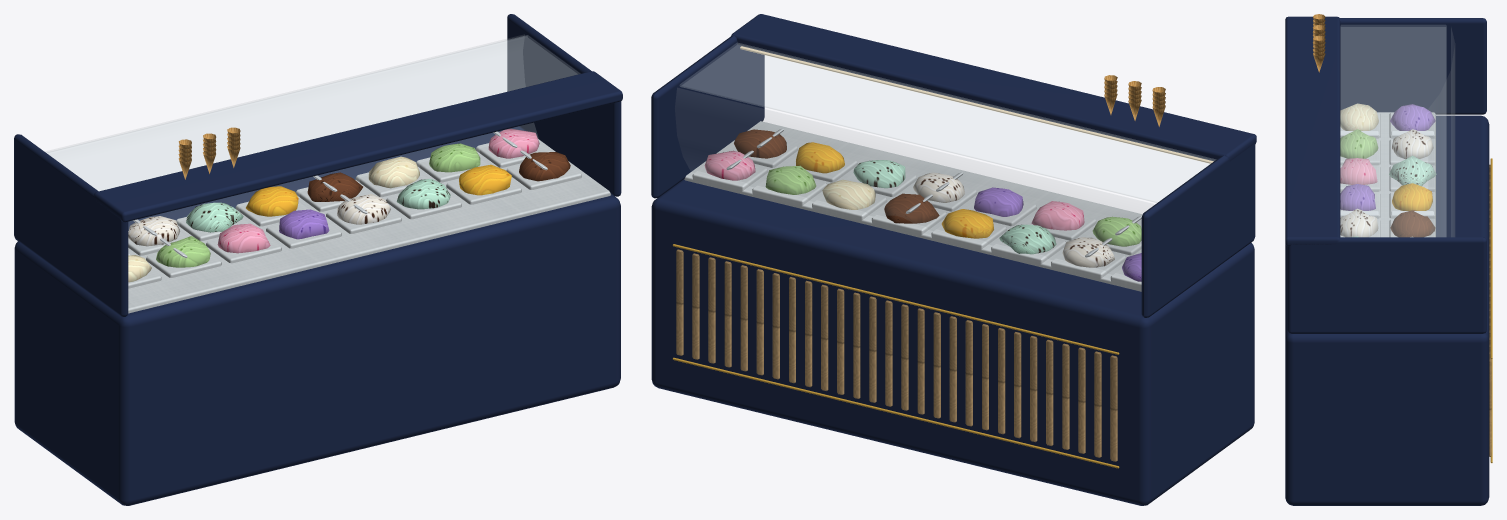
File: icecream_T4.fbx
3 views of the same model, side by side, from view 1: azimuth 30°, elevation 25°; view 2: azimuth 150°, elevation 25°; view 3: azimuth 270°, elevation 25° (orthographic). The views are drawn at different scales.
Parts seen in each view (by area): view 1: Body, Anim Fill 1, Anim Fill 0, Anim Fill 2, Anim Fill 3; view 2: Body, Anim Fill 1, Anim Fill 2, Anim Fill 0, Anim Fill 3; view 3: Body, Anim Fill 3, Anim Fill 2, Anim Fill 1.
Boxes of the visible parts, x1,y1,x2,y2 form: Body: (14,14,622,505); Anim Fill 1: (295,156,461,233); Anim Fill 0: (416,128,581,204); Anim Fill 2: (176,186,341,263); Anim Fill 3: (128,216,221,288); Body: (651,14,1256,505); Anim Fill 1: (812,160,977,235); Anim Fill 2: (931,187,1096,264); Anim Fill 0: (692,128,857,206); Anim Fill 3: (1051,216,1141,291); Body: (1285,14,1492,505); Anim Fill 3: (1340,103,1435,165); Anim Fill 2: (1340,155,1436,218); Anim Fill 1: (1340,208,1435,237).
Size of the model in its own units: 2.48 by 1.59 by 0.977.
